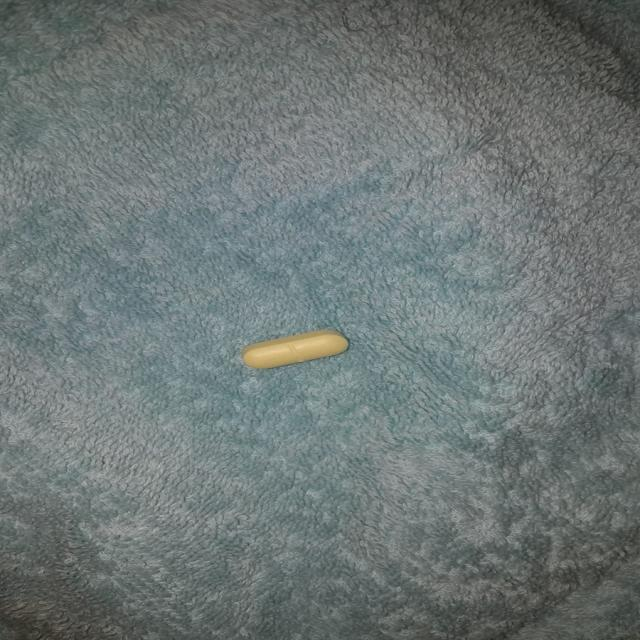pills: (228, 319, 361, 376)
